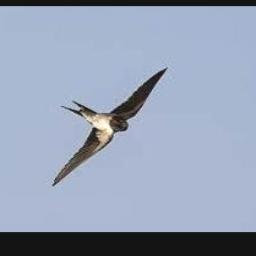Swallow: (50, 66, 168, 187)
